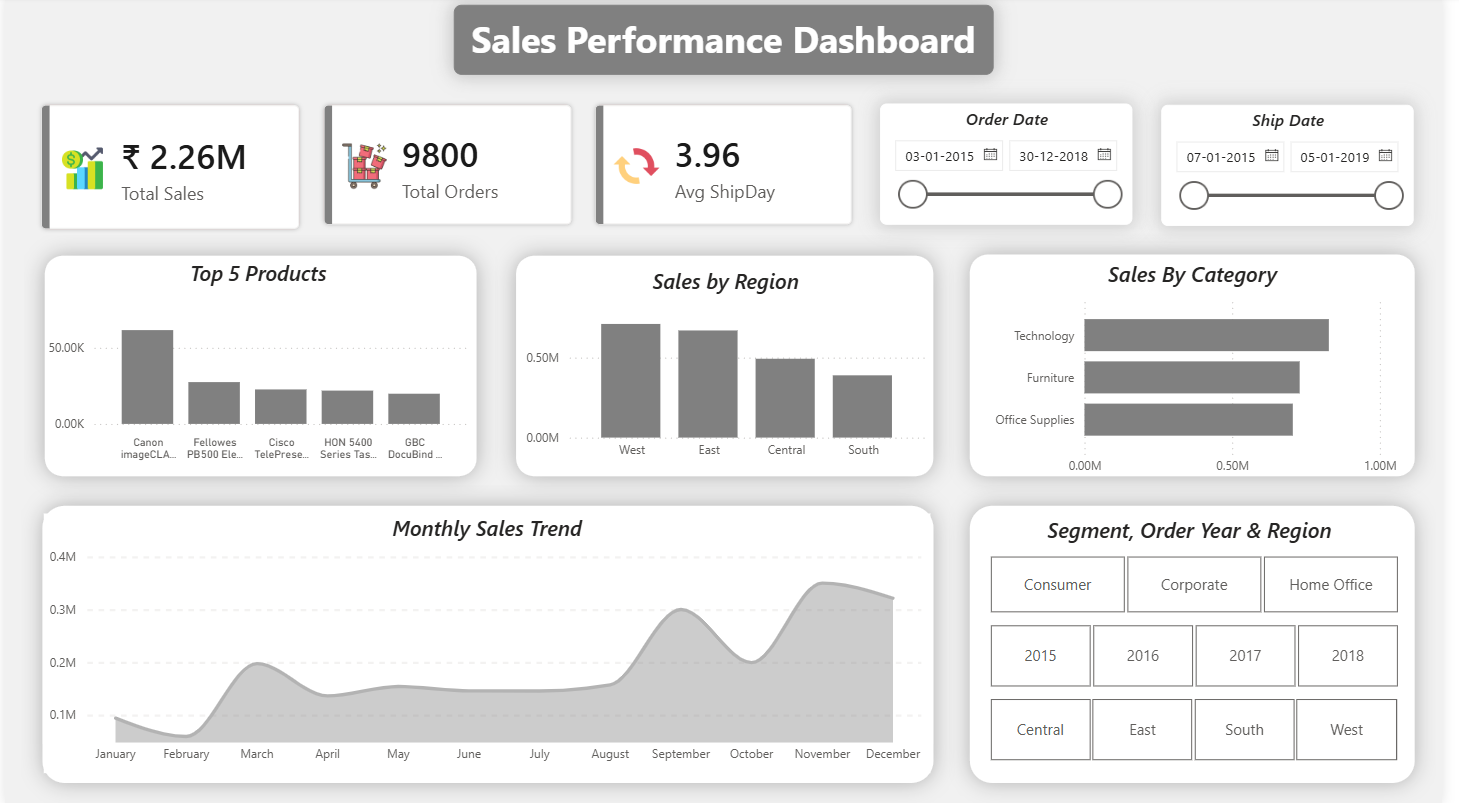

The page's visual inventory and layout, read from the dashboard file:
{"tool":"powerbi","page":{"name":"Page 1","canvas":[1280,720],"ordinal":0},"visuals":[{"type":"cardVisual","fields":{"Data":["Superstor_Cleaned_Task1.Total Sales"]},"box":[9.1,74,277.9,158.4],"z":0},{"type":"textbox","box":[400,7.8,480.5,62.3],"z":1000},{"type":"cardVisual","fields":{"Data":["Superstor_Cleaned_Task1.Total Orders"]},"box":[261,74,268.8,154.5],"z":2000},{"type":"cardVisual","fields":{"Data":["Superstor_Cleaned_Task1.Avg ShipDay"]},"box":[502.6,74,276.6,154.5],"z":3000},{"type":"shape","box":[840.3,211.7,433.8,235.1],"z":4000},{"type":"slicer","title":"Order Date","fields":{"Values":["Superstor_Cleaned_Task1.Order Date"]},"box":[779.2,96.1,224.7,107.8],"z":5000},{"type":"slicer","title":"Ship Date","fields":{"Values":["Superstor_Cleaned_Task1.Ship Date"]},"box":[1029.9,97.4,224.7,107.8],"z":6000},{"type":"shape","box":[436.4,213,409.1,233.8],"z":7000},{"type":"shape","box":[16.9,213,422.1,233.8],"z":8000},{"type":"clusteredBarChart","title":"Sales By Category","fields":{"Category":["Superstor_Cleaned_Task1.Category"],"Y":["Sum(Superstor_Cleaned_Task1.Sales)"]},"box":[870.1,227.3,374,214.3],"z":9000},{"type":"shape","box":[14.3,435.1,831.2,284.4],"z":10000},{"type":"columnChart","title":"Sales by Region","fields":{"Category":["Superstor_Cleaned_Task1.Region"],"Y":["Sum(Superstor_Cleaned_Task1.Sales)"]},"box":[458.4,232.5,366.2,194.8],"z":11000},{"type":"columnChart","title":"Top 5 Products","fields":{"Category":["Superstor_Cleaned_Task1.Product Name"],"Y":["Sum(Superstor_Cleaned_Task1.Sales)"]},"box":[33.8,226,384.4,201.3],"z":12000},{"type":"lineChart","title":"Monthly Sales Trend","fields":{"Y":["Sum(Superstor_Cleaned_Task1.Sales)"],"Category":["Superstor_Cleaned_Task1.Order Date.Variation.Date Hierarchy.Month"]},"box":[35.1,461,789.6,231.2],"z":13000},{"type":"shape","box":[840.3,435.1,433.8,284.4],"z":14000},{"type":"slicer","fields":{"Values":["Superstor_Cleaned_Task1.Segment"]},"box":[851.9,492.2,413,63.6],"z":15000},{"type":"slicer","fields":{"Values":["Superstor_Cleaned_Task1.Order Year"]},"box":[851.9,553.2,413,68.8],"z":16000},{"type":"slicer","fields":{"Values":["Superstor_Cleaned_Task1.Region"]},"box":[851.9,619.5,411.7,68.8],"z":17000},{"type":"textbox","box":[914.3,457.1,281.8,35.1],"z":18000}]}

Visuals, with their boxes in screenshot pixels (x1, y1, x2, y2), scaled from the page's 1280x720 canvas onto the 1459x803 screenshot:
cardVisual - Superstor_Cleaned_Task1.Total Sales: <bbox>10, 83, 327, 259</bbox>
textbox: <bbox>456, 9, 1004, 78</bbox>
cardVisual - Superstor_Cleaned_Task1.Total Orders: <bbox>297, 83, 604, 255</bbox>
cardVisual - Superstor_Cleaned_Task1.Avg ShipDay: <bbox>573, 83, 888, 255</bbox>
shape: <bbox>958, 236, 1452, 498</bbox>
"Order Date" slicer: <bbox>888, 107, 1144, 227</bbox>
"Ship Date" slicer: <bbox>1174, 109, 1430, 229</bbox>
shape: <bbox>497, 238, 964, 498</bbox>
shape: <bbox>19, 238, 500, 498</bbox>
"Sales By Category" clusteredBarChart: <bbox>992, 254, 1418, 493</bbox>
shape: <bbox>16, 485, 964, 802</bbox>
"Sales by Region" columnChart: <bbox>523, 259, 940, 477</bbox>
"Top 5 Products" columnChart: <bbox>39, 252, 477, 477</bbox>
"Monthly Sales Trend" lineChart: <bbox>40, 514, 940, 772</bbox>
shape: <bbox>958, 485, 1452, 802</bbox>
slicer - Superstor_Cleaned_Task1.Segment: <bbox>971, 549, 1442, 620</bbox>
slicer - Superstor_Cleaned_Task1.Order Year: <bbox>971, 617, 1442, 694</bbox>
slicer - Superstor_Cleaned_Task1.Region: <bbox>971, 691, 1440, 768</bbox>
textbox: <bbox>1042, 510, 1363, 549</bbox>
